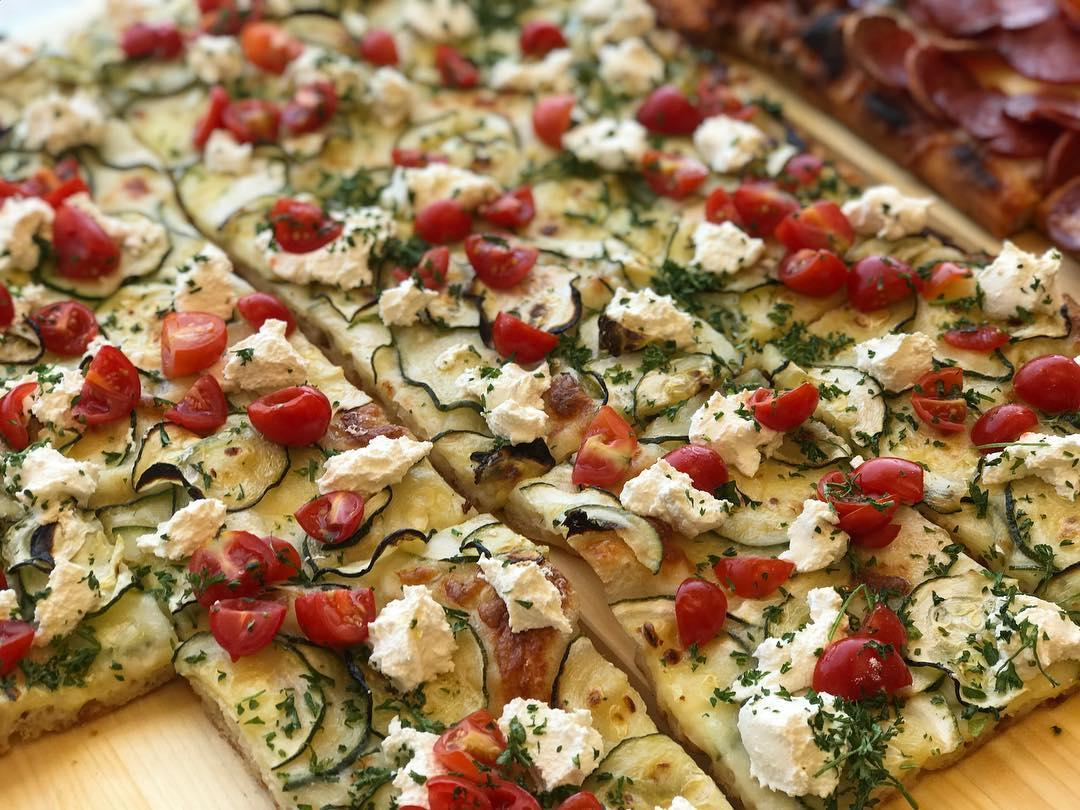Cheese: (748, 700, 837, 791), (759, 590, 838, 685), (978, 249, 1063, 333), (629, 466, 724, 535), (997, 600, 1080, 673), (285, 216, 375, 277), (695, 396, 765, 469), (376, 601, 442, 673), (521, 706, 589, 774), (859, 333, 933, 392), (841, 186, 927, 236), (813, 370, 879, 429), (986, 436, 1080, 476), (494, 564, 557, 620), (394, 734, 440, 810), (37, 566, 86, 636), (328, 444, 405, 488), (490, 371, 544, 433), (787, 505, 841, 566), (234, 333, 305, 379), (616, 294, 687, 337), (568, 126, 644, 165), (697, 225, 757, 269), (406, 170, 482, 204), (605, 46, 661, 92), (701, 119, 758, 164), (158, 508, 212, 551), (0, 202, 35, 266), (33, 452, 85, 495), (24, 105, 93, 137), (28, 372, 78, 411)
Pepperoni: (948, 87, 1046, 159), (904, 42, 980, 122), (992, 28, 1080, 86), (853, 17, 915, 93), (916, 0, 1056, 32), (1037, 172, 1080, 251), (1009, 95, 1080, 134), (1043, 134, 1080, 192)
Pizza: (0, 0, 1080, 810)
Tomatoes: (423, 705, 543, 810), (825, 460, 926, 552), (202, 86, 332, 149), (189, 535, 300, 594), (812, 638, 915, 696), (576, 404, 637, 488), (248, 383, 331, 444), (80, 348, 147, 423), (207, 599, 282, 666), (297, 589, 385, 646), (54, 204, 120, 279), (632, 83, 747, 125), (655, 440, 736, 495), (708, 185, 796, 234), (161, 311, 227, 373), (849, 252, 920, 309), (777, 247, 857, 297), (674, 575, 729, 647), (0, 157, 90, 201), (465, 237, 542, 288), (1014, 354, 1080, 413), (776, 199, 855, 248), (292, 490, 365, 543), (272, 196, 342, 251), (913, 365, 968, 432), (486, 312, 559, 361), (967, 402, 1040, 451), (710, 554, 796, 594), (754, 383, 821, 433), (31, 304, 96, 353), (644, 149, 708, 197), (170, 378, 230, 429), (0, 383, 44, 452), (243, 21, 299, 73), (418, 196, 479, 242), (238, 291, 298, 337), (195, 0, 265, 36), (121, 22, 182, 61), (532, 96, 575, 150), (479, 188, 538, 227), (0, 616, 36, 676), (855, 602, 910, 639), (945, 321, 1009, 350), (437, 45, 477, 89), (522, 22, 568, 59), (364, 28, 399, 67), (388, 146, 453, 166), (553, 788, 609, 810), (787, 155, 821, 182)
